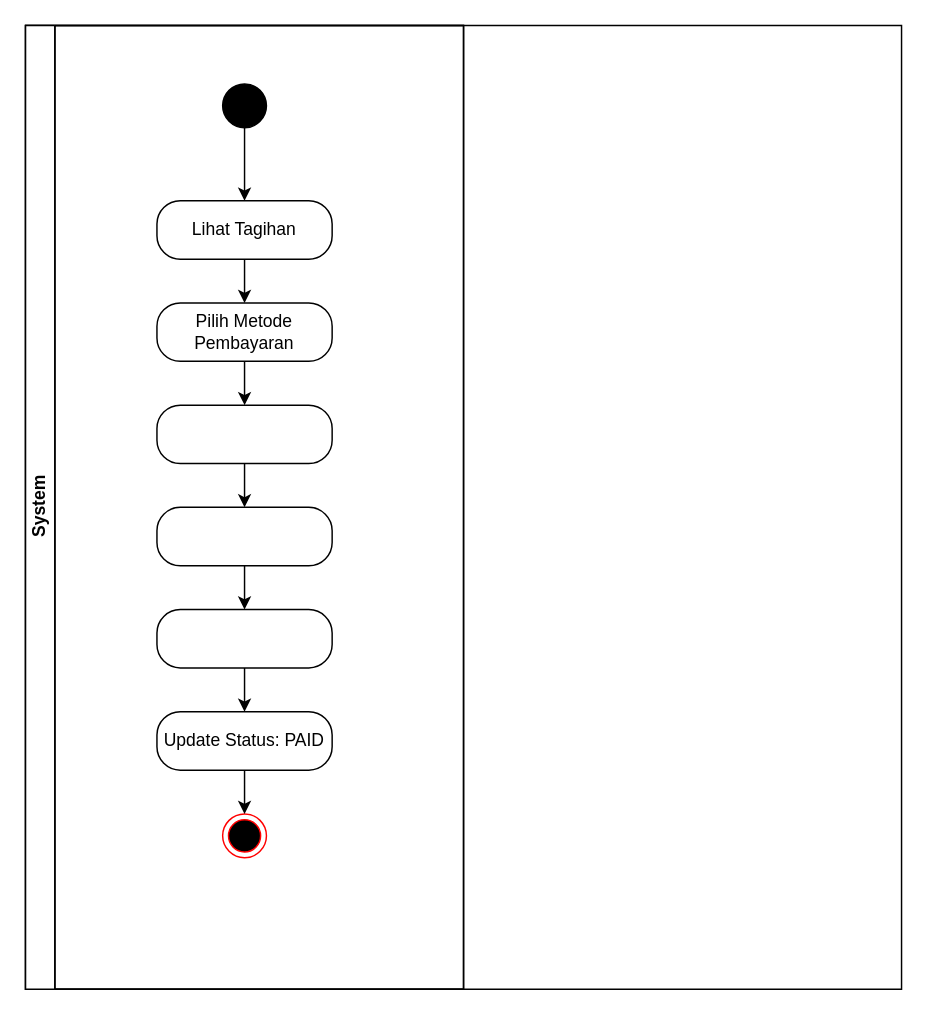
The diagram is 927 pixels wide and 1015 high, and some of its shapes have lost their labels. Here are the shapes that lost their labels. From the top down, the centre of each, then its label:
At point (243, 434): "Request VA ke Gateway".
At point (243, 536): "Transfer ke VA".
At point (243, 638): "Terima Callback".
